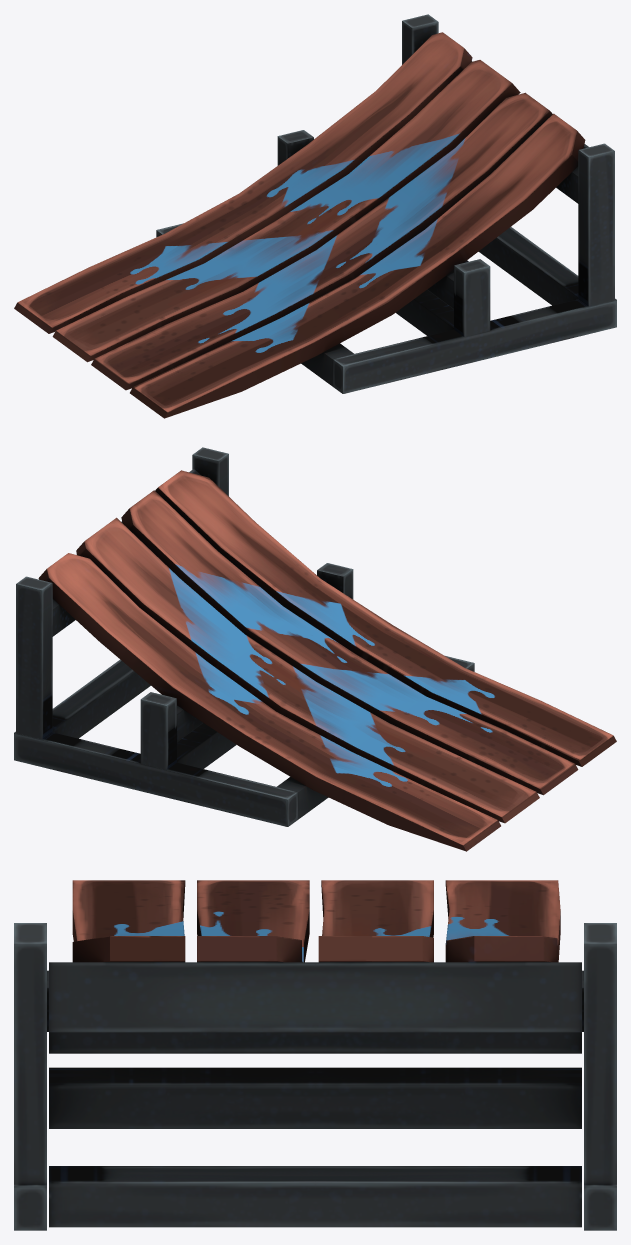
The model's file is ramp.fbx.
3 renders of one model, top to bottom at view 1: azimuth 30°, elevation 25°; view 2: azimuth 150°, elevation 25°; view 3: azimuth 270°, elevation 25°, orthographic. The views are drawn at different scales.
Visible parts, largest first — view 1: Ramp; view 2: Ramp; view 3: Ramp.
Part boxes in pixels (x1,y1,x2,y2): Ramp: (14, 14, 616, 418); Ramp: (14, 447, 616, 851); Ramp: (14, 880, 616, 1230).
Bounding box in the file's own units: 156 × 60.87 × 116.
